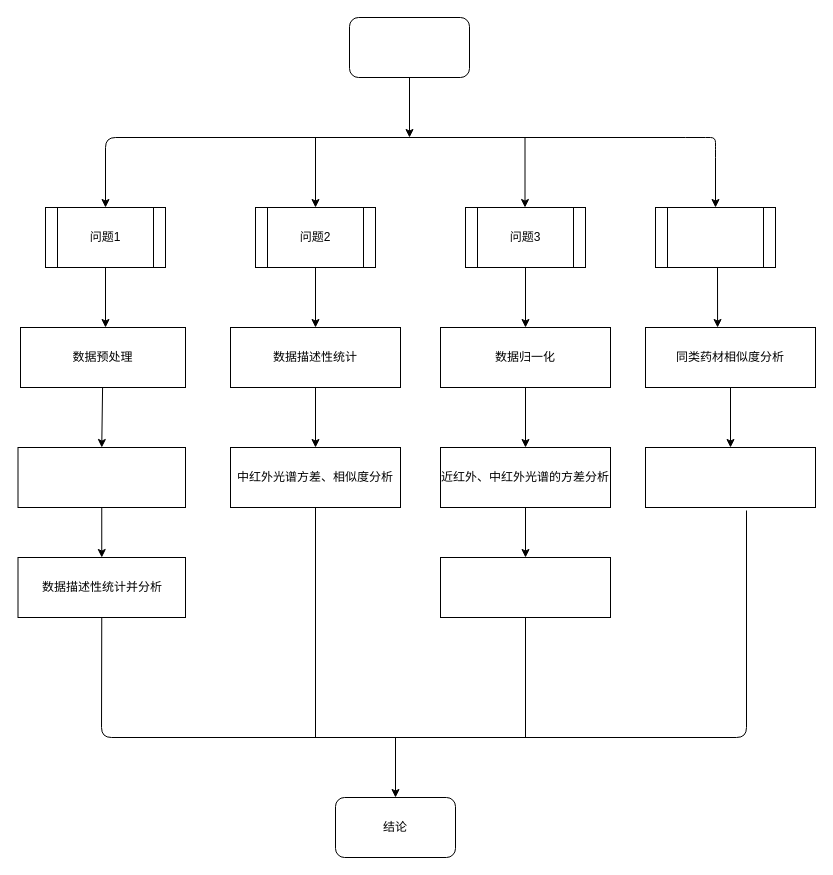
The diagram is 833 pixels wide and 875 high, and some of its shapes have lost their labels. The centre of each missing label's shape, as x and y in pixels:
"光谱相似度分析" belongs at point 525,587.
"原始数据" belongs at point 409,47.
"同产地相似度分析" belongs at point 730,477.
"聚类分析" belongs at point 101,477.
"问题4" belongs at point 715,237.
